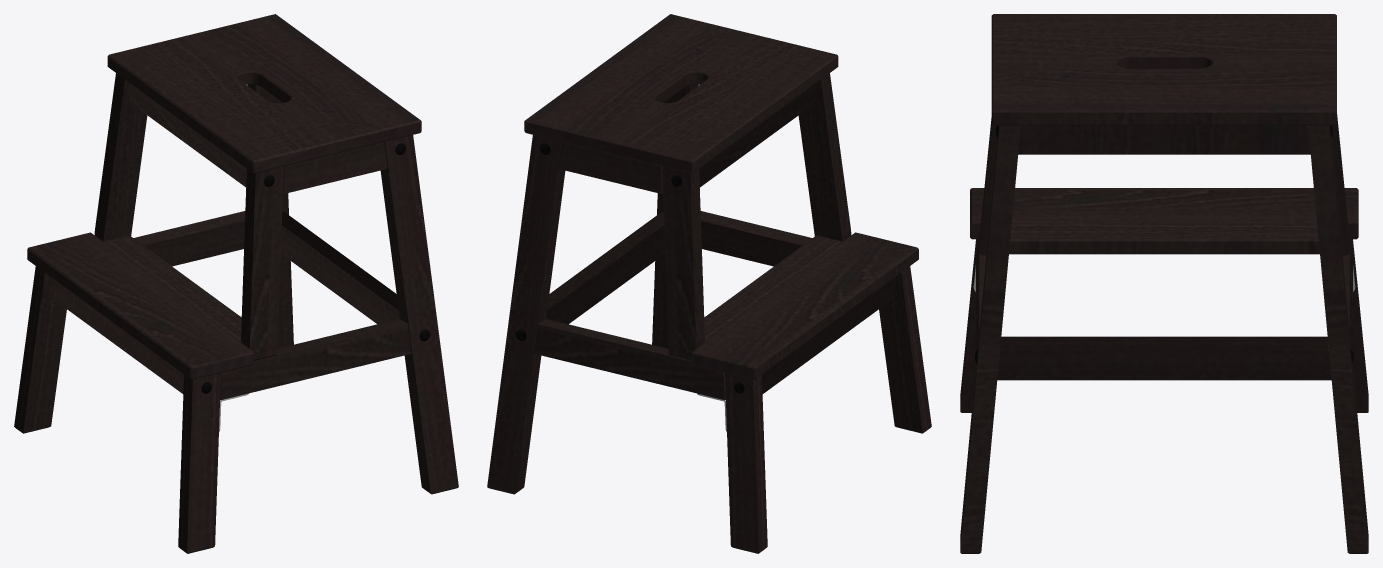
File: BEKVAM_40463852.glb
3 renders of one model, left to right at view 1: azimuth 30°, elevation 25°; view 2: azimuth 150°, elevation 25°; view 3: azimuth 270°, elevation 25°, orthographic. The views are drawn at different scales.
Visible parts, largest first — view 1: FRONT BOTTOM RAIL_72933_blk, TOP_72174_blk; view 2: FRONT BOTTOM RAIL_72933_blk, TOP_72174_blk; view 3: FRONT BOTTOM RAIL_72933_blk, TOP_72174_blk.
Part boxes in pixels (x1,y1,x2,y2): FRONT BOTTOM RAIL_72933_blk: (14,14,458,553); TOP_72174_blk: (192,71,421,378); FRONT BOTTOM RAIL_72933_blk: (487,14,931,553); TOP_72174_blk: (524,55,837,378); FRONT BOTTOM RAIL_72933_blk: (960,14,1368,553); TOP_72174_blk: (991,14,1336,124).
Bounding box in the file's own units: 0.3885 × 0.4975 × 0.428.
6 materials, 5 textured.
